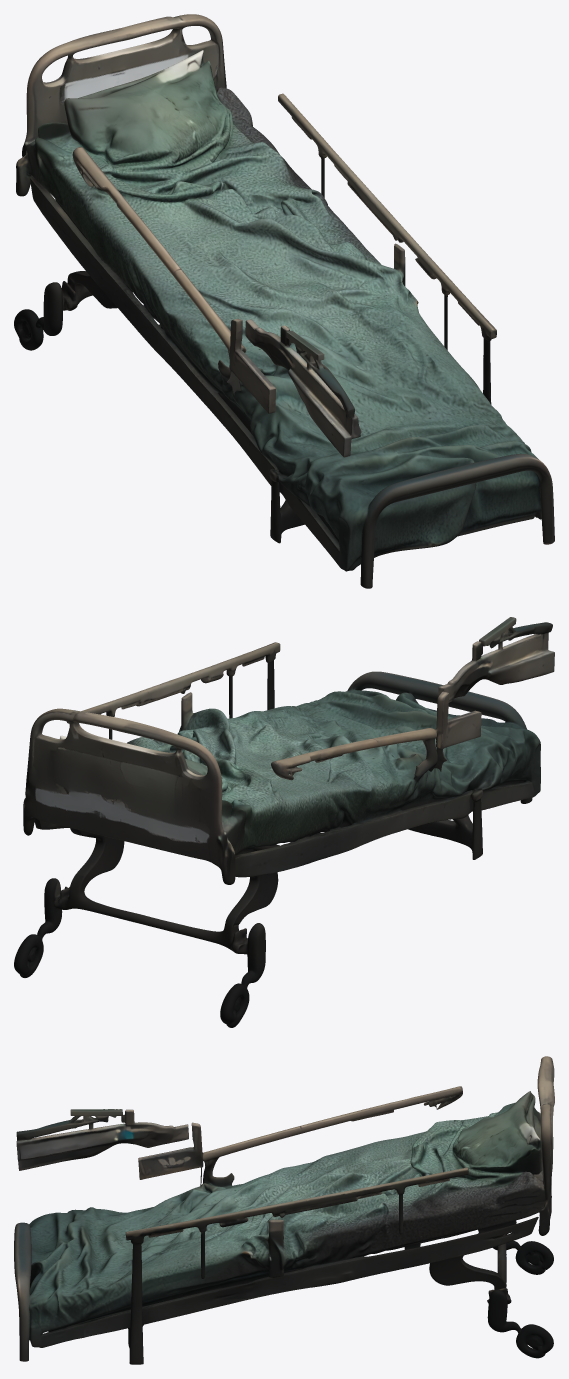
Rendered from base_basic_pbr.glb.
3 renders of one model, top to bottom at view 1: azimuth 30°, elevation 25°; view 2: azimuth 150°, elevation 25°; view 3: azimuth 270°, elevation 25°, orthographic. The views are drawn at different scales.
Parts seen in each view (by area): view 1: model; view 2: model; view 3: model.
Boxes of the visible parts, bbox=[...] form: model: bbox=[14, 14, 554, 588]; model: bbox=[14, 617, 554, 1027]; model: bbox=[14, 1056, 554, 1364].
Size of the model in its own units: 0.5536 by 0.7 by 1.42.
Materials: 1 (1 with a texture image).
